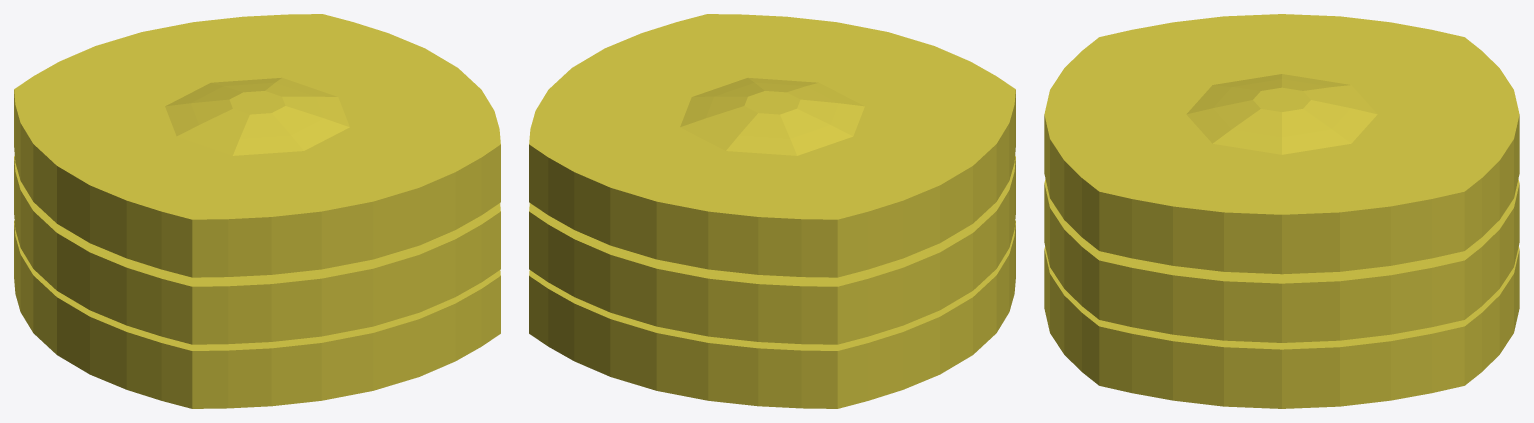
Rendered from 3Gold.fbx.
The picture shows the model from 3 angles, left to right: view 1: azimuth 30°, elevation 25°; view 2: azimuth 150°, elevation 25°; view 3: azimuth 270°, elevation 25°; orthographic projection. The views are drawn at different scales.
Visible parts, largest first — view 1: Gold.002, Gold.001, Gold; view 2: Gold.002, Gold.001, Gold; view 3: Gold.002, Gold.001, Gold.
Boxes of the visible parts, x1,y1,x2,y2 form: Gold.002: (14, 14, 500, 277); Gold.001: (14, 156, 500, 344); Gold: (14, 220, 500, 408); Gold.002: (529, 14, 1015, 277); Gold.001: (529, 156, 1015, 344); Gold: (529, 220, 1015, 408); Gold.002: (1044, 14, 1519, 274); Gold.001: (1044, 179, 1519, 342); Gold: (1044, 246, 1519, 408).
Bounding box in the file's own units: 8.92 × 4.32 × 8.92.
